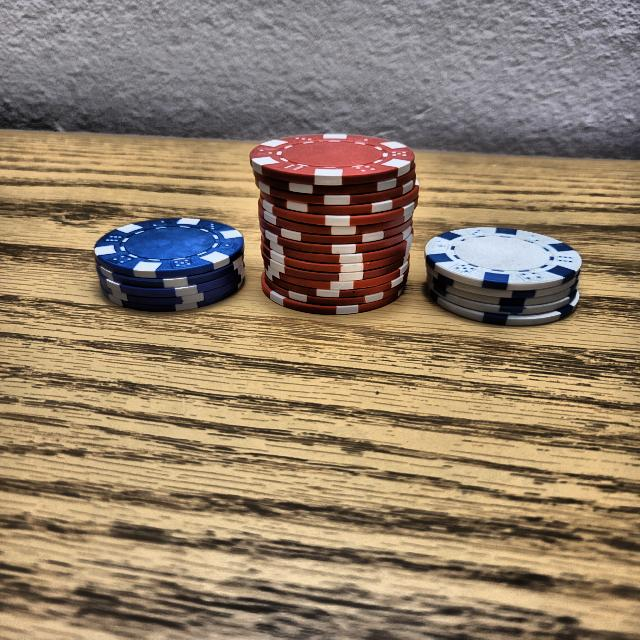Chip: (242, 105, 424, 330), (421, 210, 588, 334), (90, 206, 246, 321)
